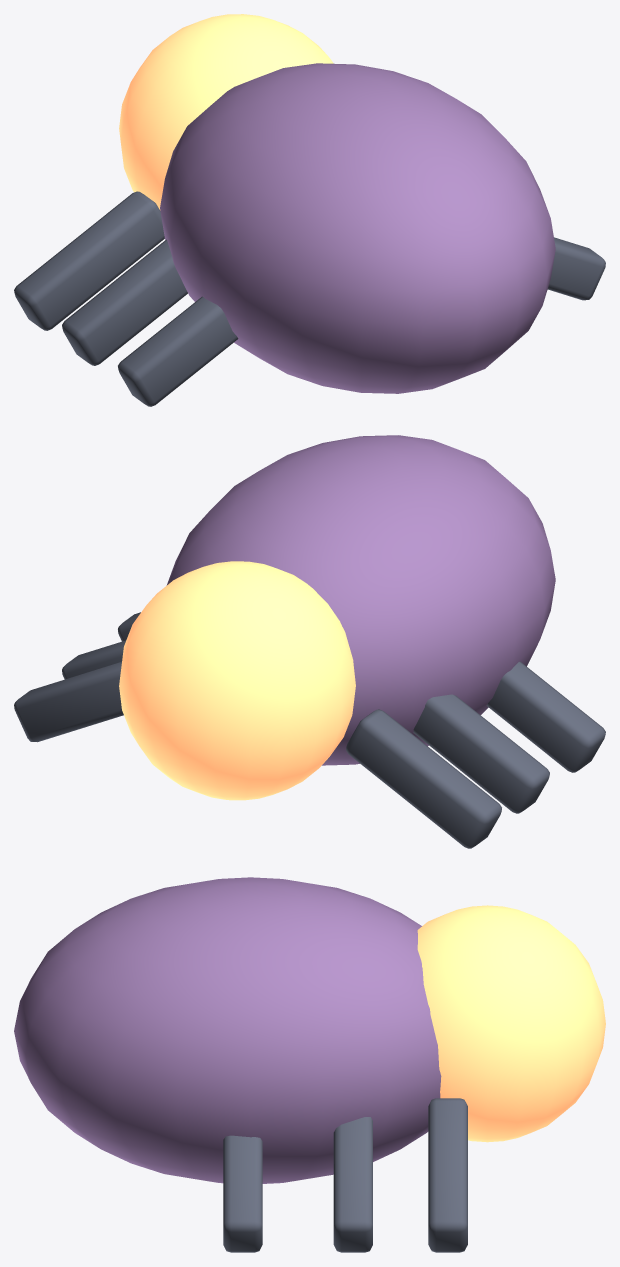
Rendered from enemy_beast.glb.
The picture shows the model from 3 angles, top to bottom: view 1: azimuth 30°, elevation 25°; view 2: azimuth 150°, elevation 25°; view 3: azimuth 270°, elevation 25°; orthographic projection.
Parts seen in each view (by area): view 1: StaticBody; view 2: StaticBody; view 3: StaticBody.
Part boxes in pixels (<box>): StaticBody: <box>14,14,605,406</box>; StaticBody: <box>14,435,605,848</box>; StaticBody: <box>14,877,605,1252</box>.
Size of the model in its own units: 1.37 by 0.7488 by 1.5.
